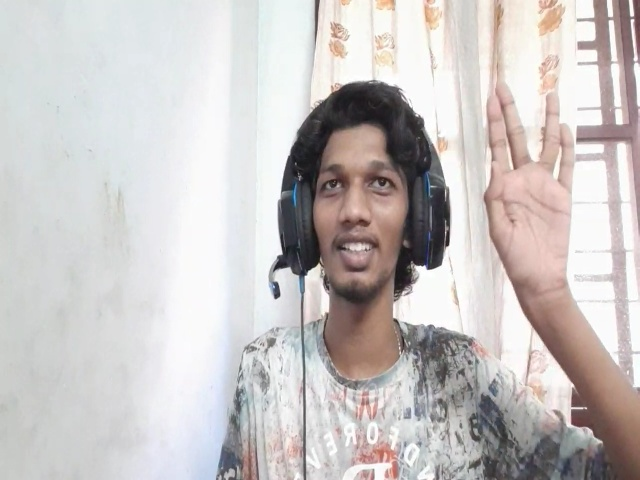LiveLong: (483, 81, 577, 288)
